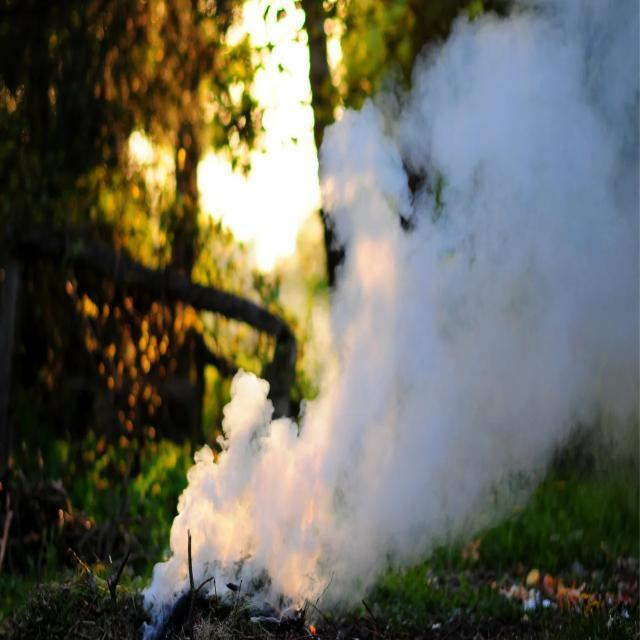Smoke: (148, 0, 640, 608)
